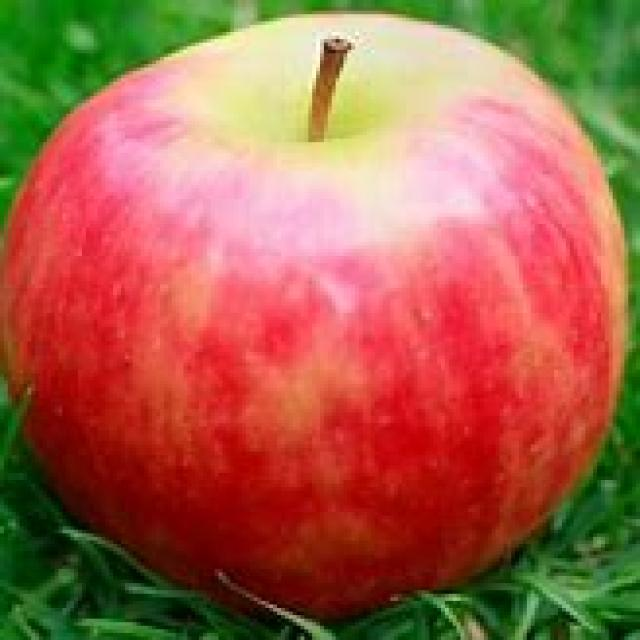apple: (0, 11, 631, 608)
